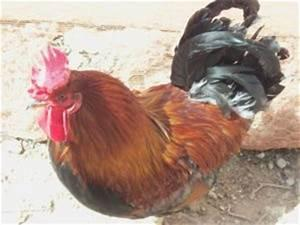hen: (26, 0, 289, 219)
